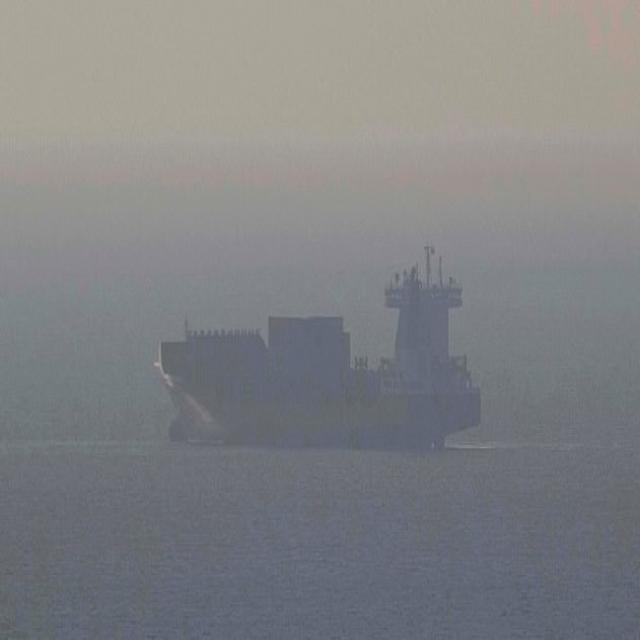cargoship: (155, 254, 479, 456)
